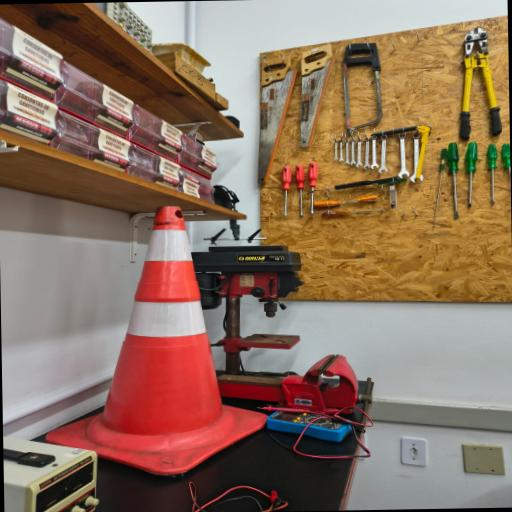cone: (54, 214, 276, 460)
